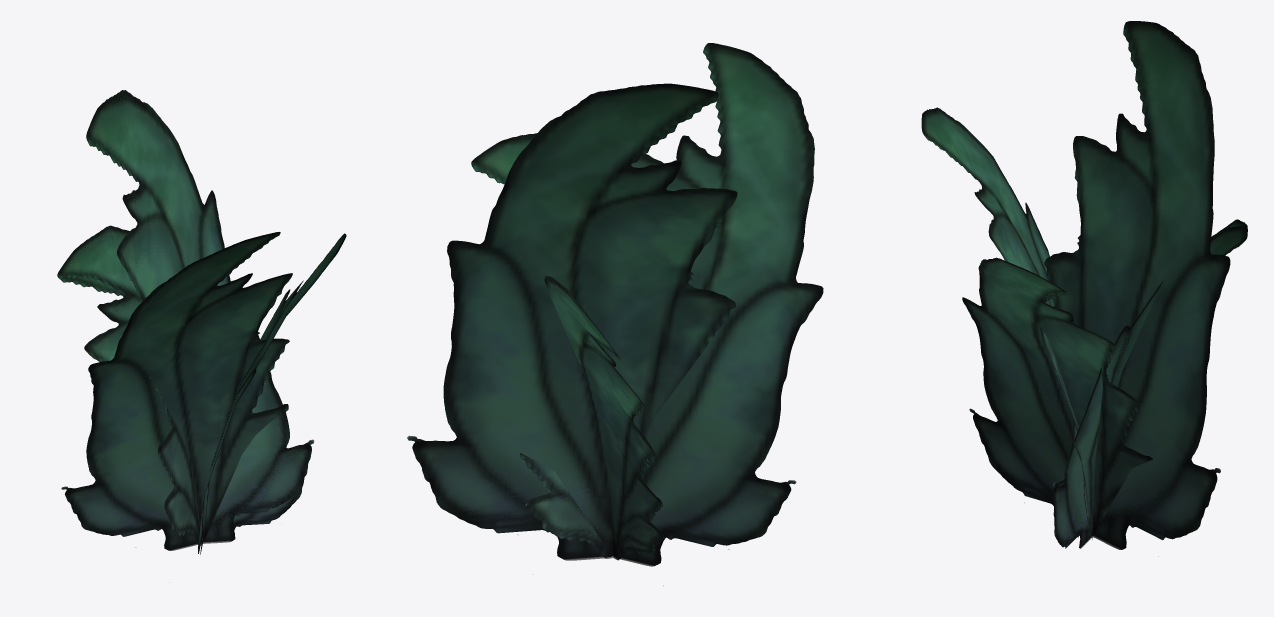
The model's file is SpiraloePalm.fbx.
The picture shows the model from 3 angles, left to right: view 1: azimuth 30°, elevation 25°; view 2: azimuth 150°, elevation 25°; view 3: azimuth 270°, elevation 25°; orthographic projection. The views are drawn at different scales.
Parts seen in each view (by area): view 1: SpiraloePalm; view 2: SpiraloePalm; view 3: SpiraloePalm.
Boxes of the visible parts, <box> form: SpiraloePalm: <box>57,90,346,582</box>; SpiraloePalm: <box>407,43,823,585</box>; SpiraloePalm: <box>921,21,1247,556</box>.
Bounding box in the file's own units: 331 × 463 × 276.
1 material, 1 textured.
